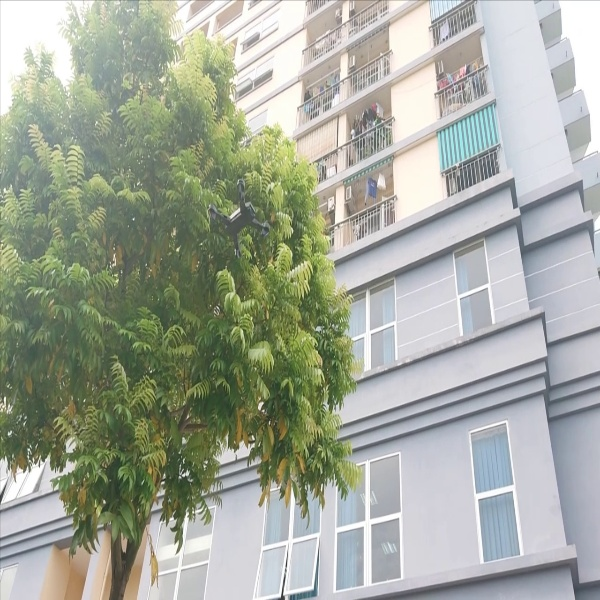drone: (192, 178, 278, 257)
